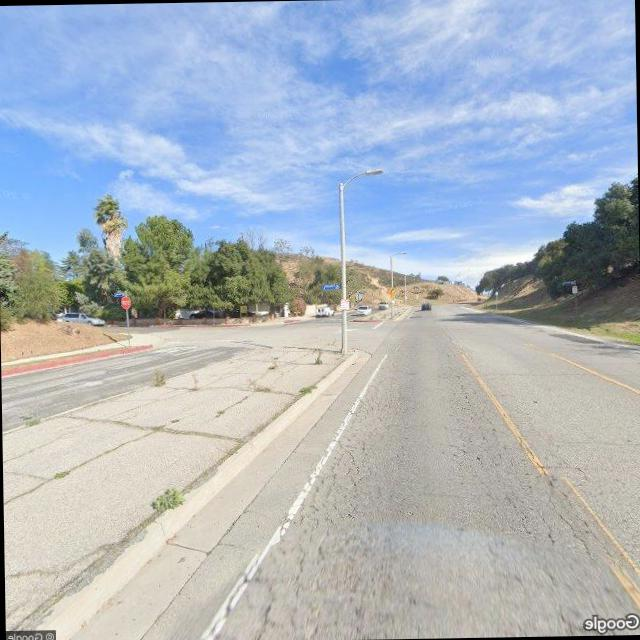crack: (216, 354, 412, 638), (444, 369, 614, 614)
